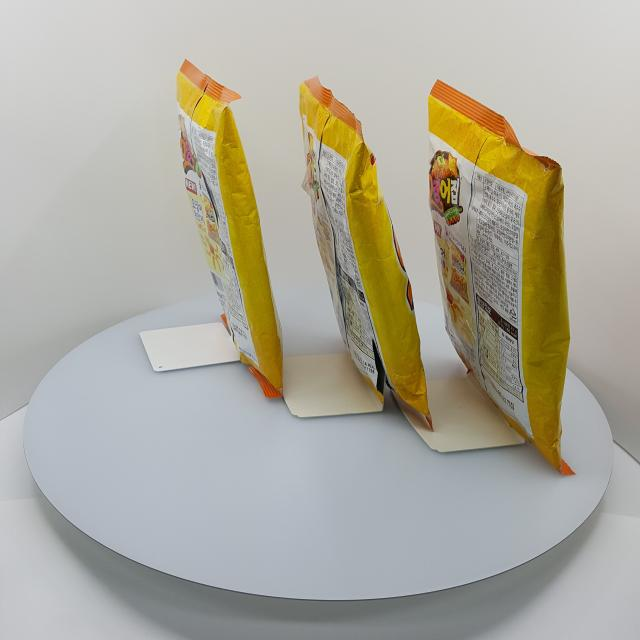-83G: (429, 80, 577, 476), (300, 75, 434, 433), (177, 59, 284, 399)
